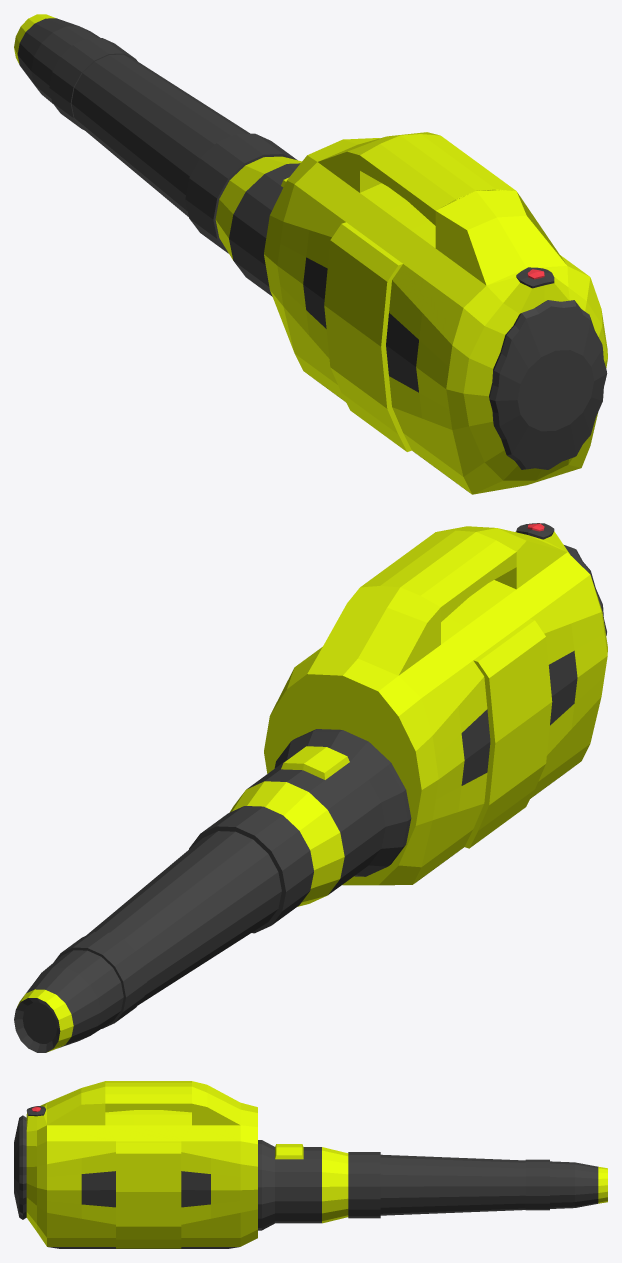
File: WindModel.fbx
3 views of the same model, one above another, from view 1: azimuth 30°, elevation 25°; view 2: azimuth 150°, elevation 25°; view 3: azimuth 270°, elevation 25° (orthographic). The views are drawn at different scales.
Parts seen in each view (by area): view 1: Wind Gun; view 2: Wind Gun; view 3: Wind Gun.
Part boxes in pixels (x1,y1,x2,y2): Wind Gun: [14, 14, 607, 494]; Wind Gun: [14, 523, 607, 1052]; Wind Gun: [14, 1081, 607, 1248].
Bounding box in the file's own units: 177 × 260 × 928.
